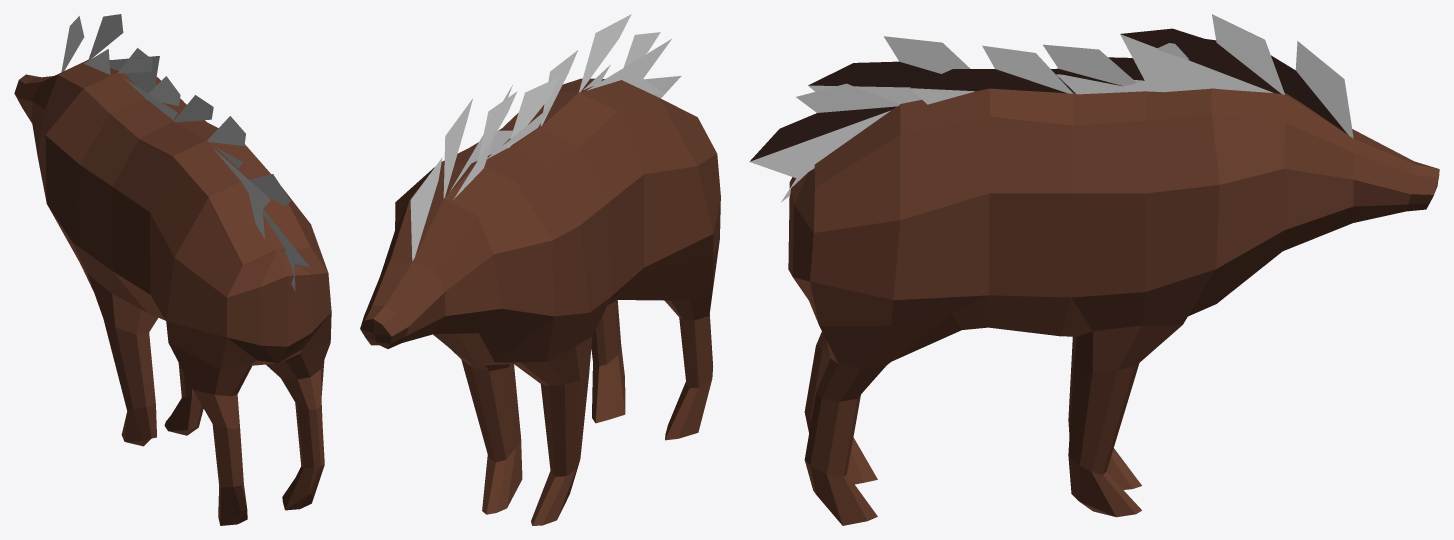
Rendered from CAPPY_obj_wartypig.fbx.
3 renders of one model, left to right at view 1: azimuth 30°, elevation 25°; view 2: azimuth 150°, elevation 25°; view 3: azimuth 270°, elevation 25°, orthographic. The views are drawn at different scales.
Visible parts, largest first — view 1: Plane.015; view 2: Plane.015; view 3: Plane.015.
Part boxes in pixels (left/top/right/bottom): Plane.015: left=14, top=14, right=331, bottom=525; Plane.015: left=360, top=14, right=720, bottom=525; Plane.015: left=749, top=14, right=1439, bottom=525.
Size of the model in its own units: 534 by 1256 by 1616.
